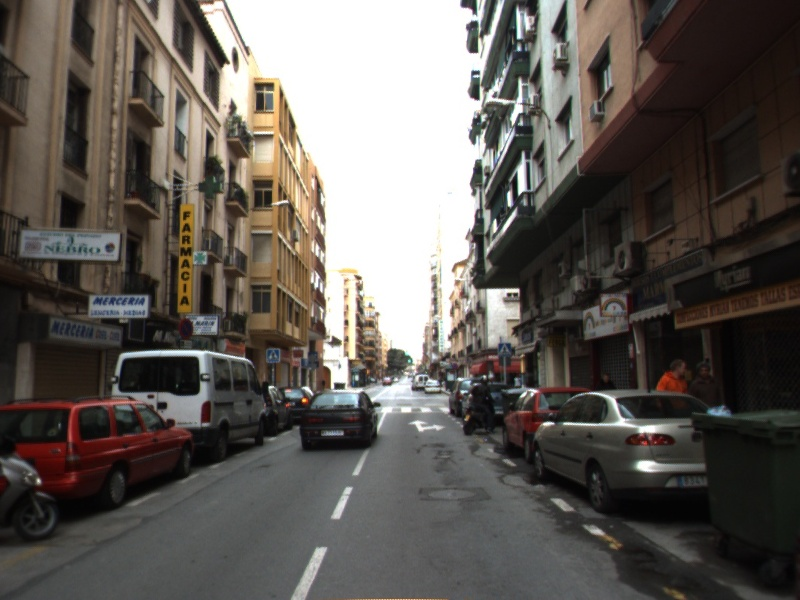STRAIGHT_RIGHT: (406, 418, 448, 434)
